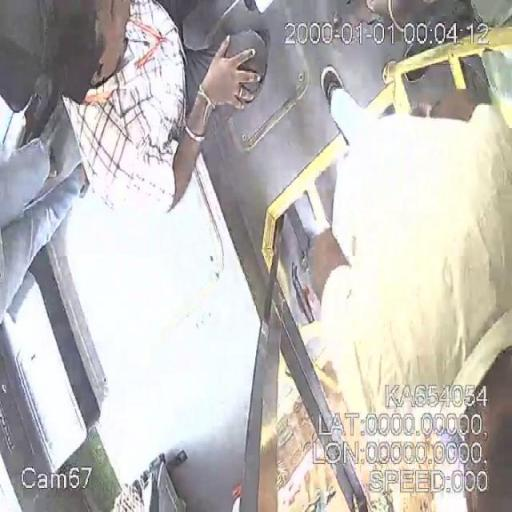persona: (311, 36, 512, 512), (0, 0, 263, 219)
